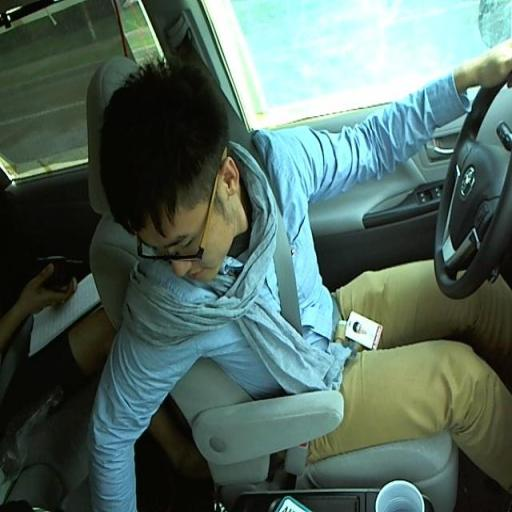turning: (91, 54, 512, 436)
